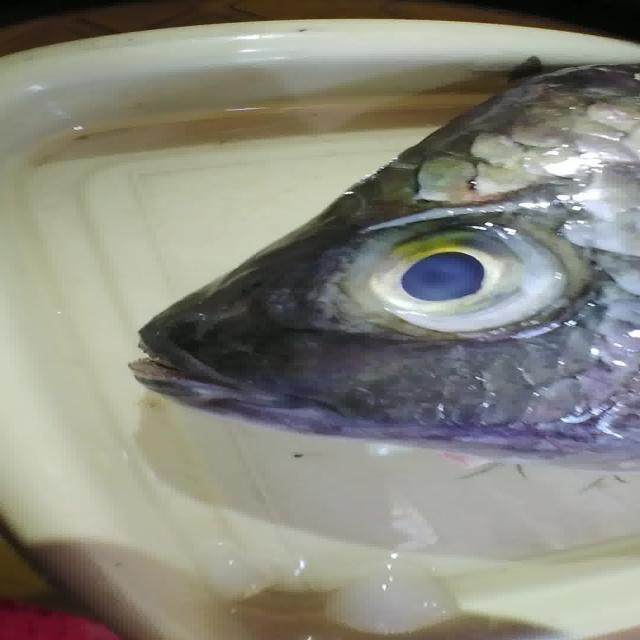Fresh: (356, 209, 588, 359)
